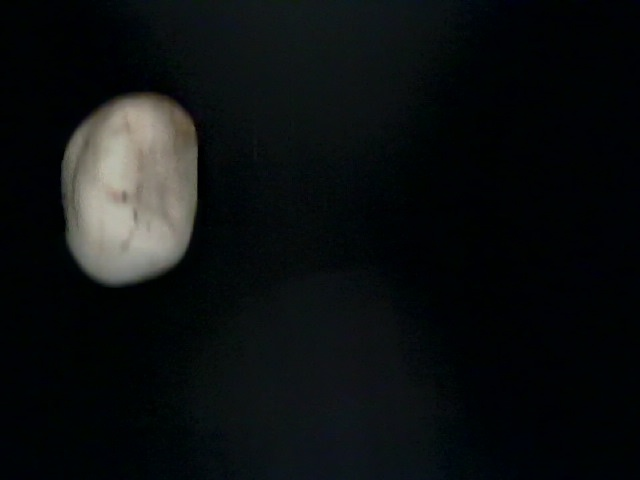QTLJ: (351, 311, 640, 477)
